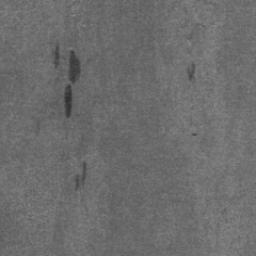Iron scale compression: (69, 49, 81, 81), (74, 163, 86, 192), (64, 86, 72, 118), (187, 64, 196, 80), (53, 45, 59, 68)
